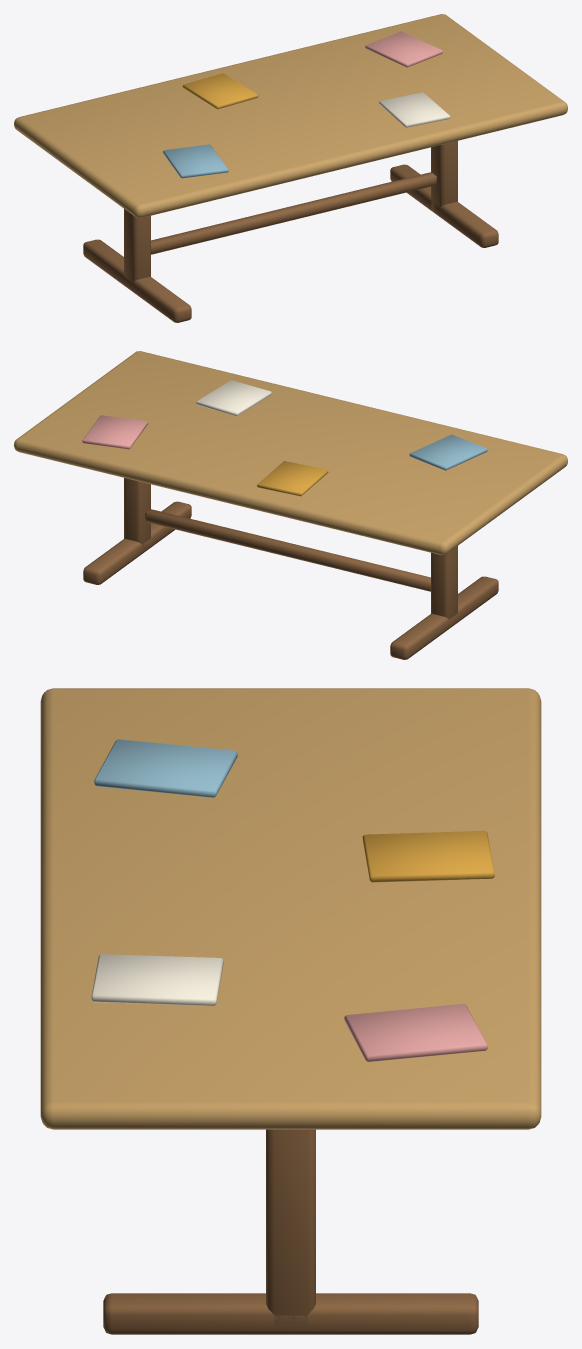
Rendered from meeting_table.glb.
3 renders of one model, top to bottom at view 1: azimuth 30°, elevation 25°; view 2: azimuth 150°, elevation 25°; view 3: azimuth 270°, elevation 25°, orthographic. The views are drawn at different scales.
Parts seen in each view (by area): view 1: meeting_table; view 2: meeting_table; view 3: meeting_table.
Boxes of the visible parts, bbox=[...] form: meeting_table: bbox=[14, 14, 567, 322]; meeting_table: bbox=[14, 351, 567, 659]; meeting_table: bbox=[40, 688, 541, 1334].
Bounding box in the file's own units: 2.4 × 0.77 × 1.2.
Materials: 1 (1 with a texture image).
